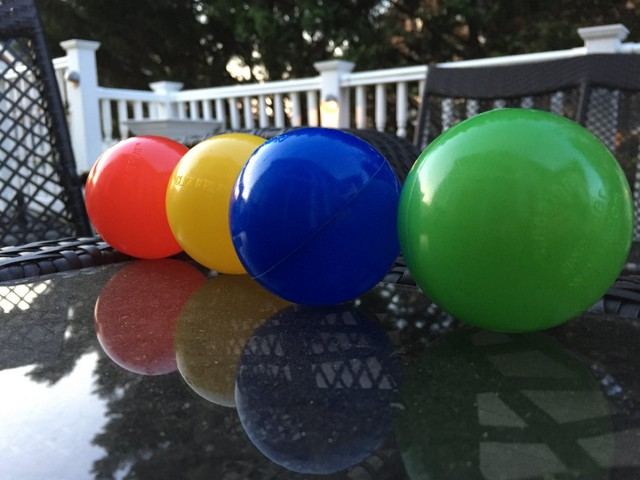Ball: (81, 135, 204, 261)
